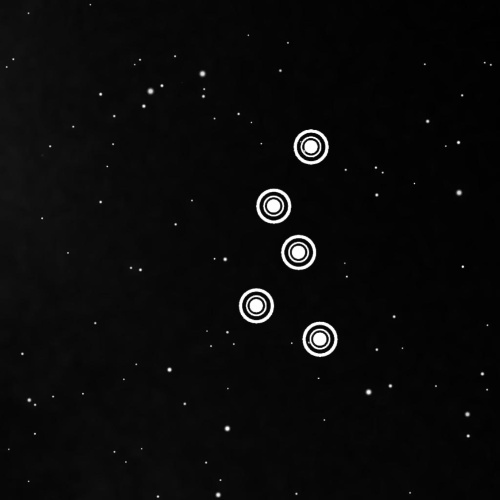cassiopeia: (227, 112, 349, 372)
